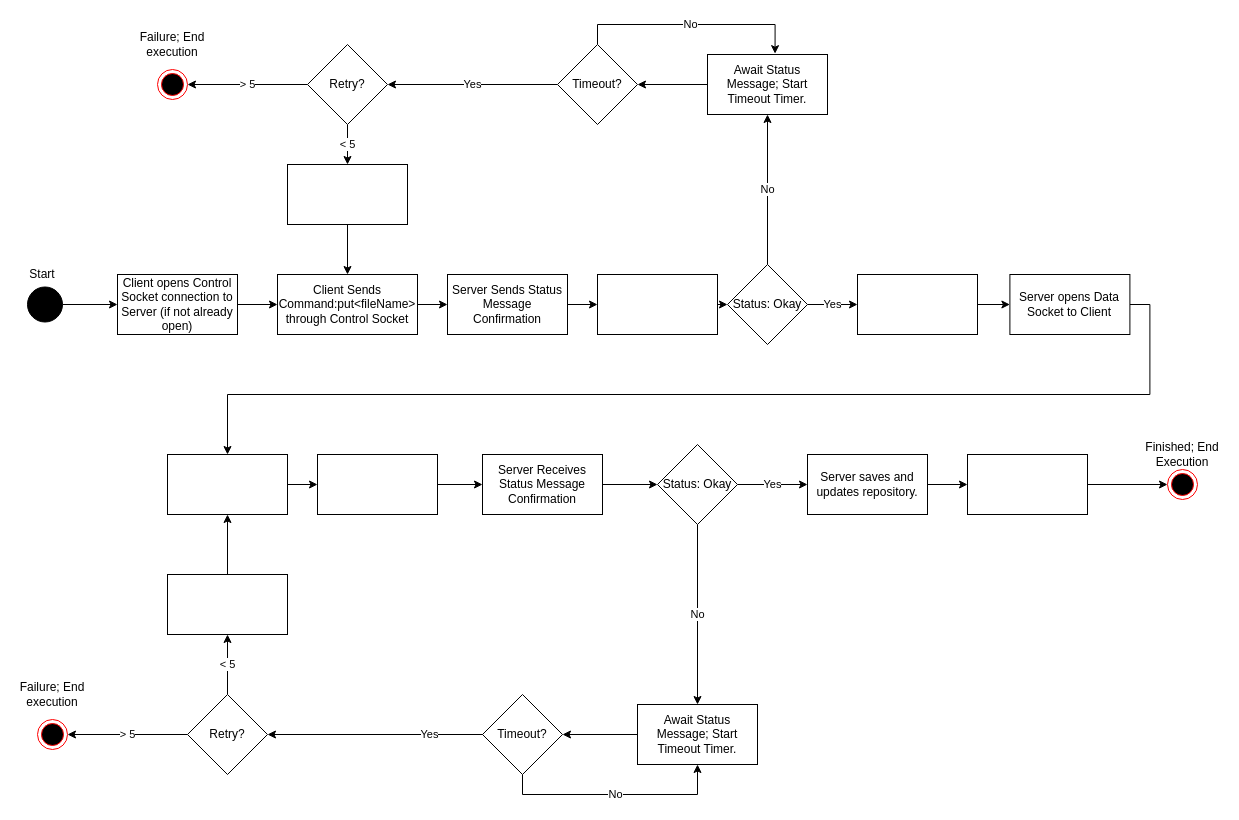
This 1239x820 diagram has some shape labels left out. Each missing label, with the centre of its shape:
"Client Receives Status Message" belongs at point (657, 304).
"Client sends <filename> to Server" belongs at point (227, 484).
"Client Sends Status Message Confirmation" belongs at point (377, 484).
"cRetry++" belongs at point (347, 194).
"Server Closes Data Socket" belongs at point (1027, 484).
"Server receives command get on Control Socket" belongs at point (917, 304).
"sRetry++" belongs at point (227, 604).
